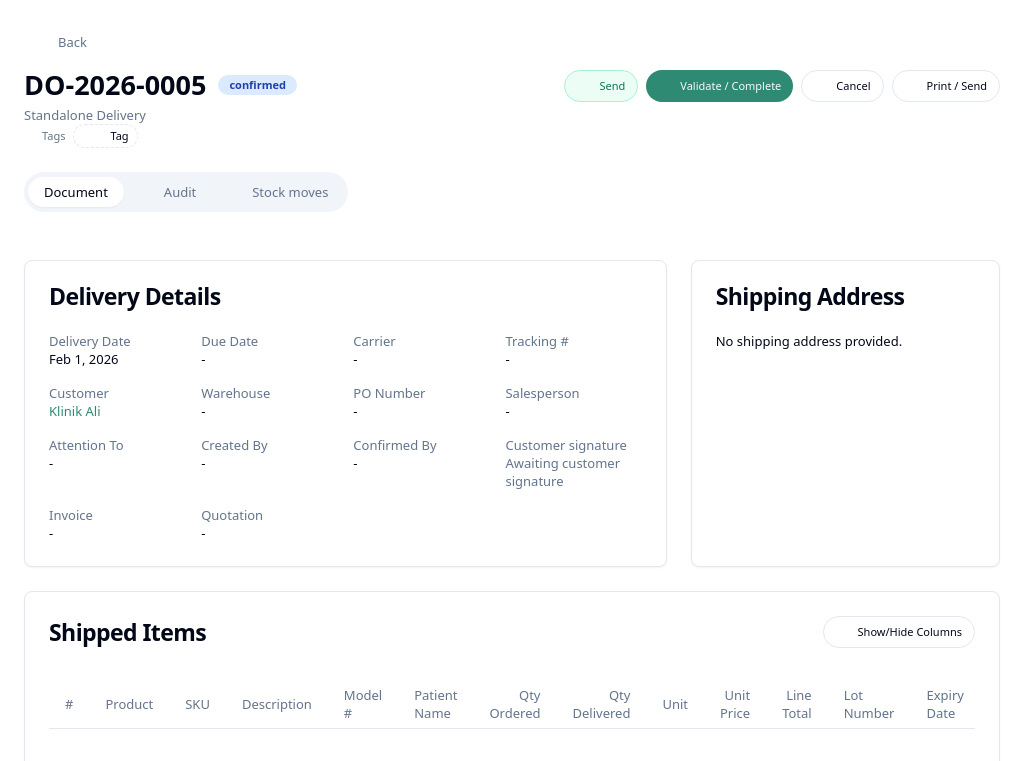
Test case: DeliveryOrderDetailPage — shared print and send menu (#618) › reuses the existing DO send dialog for the Email action
This screenshot has width=1024, height=761.
Press the mouse on the button "Print / Send" at (946, 86), box [892,70,1000,102]
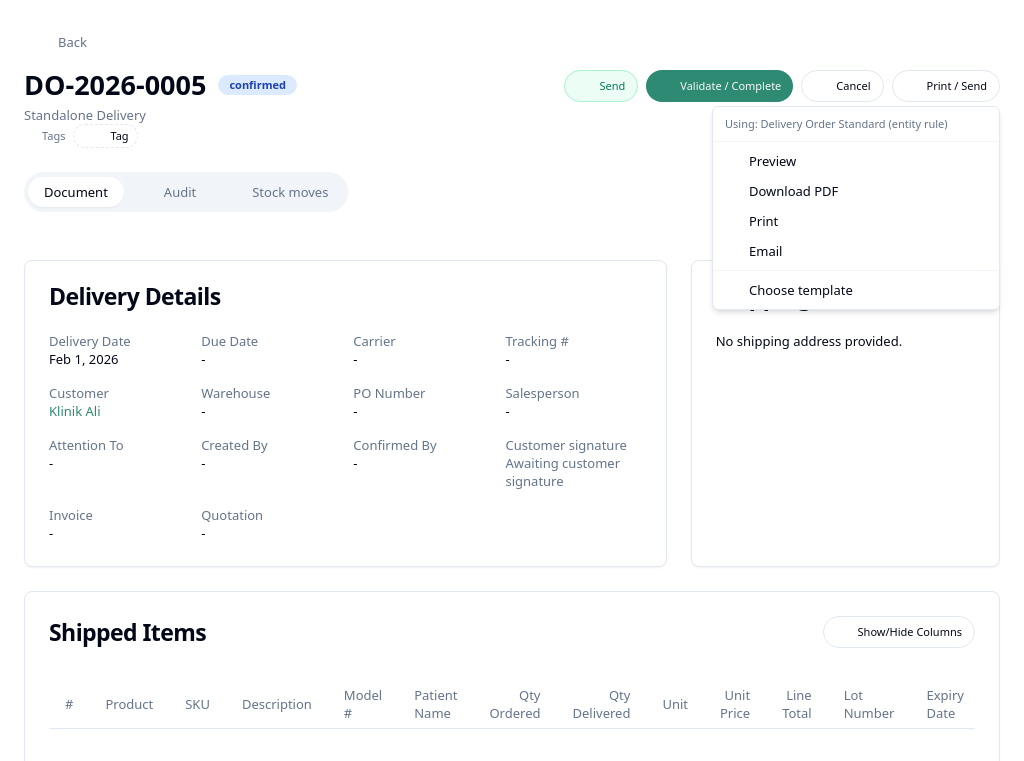
Expected: the menu item "Preview" is shown, [725,152,796,170]
Click the menu item "Email".
click(754, 251)  # box [725,242,782,260]
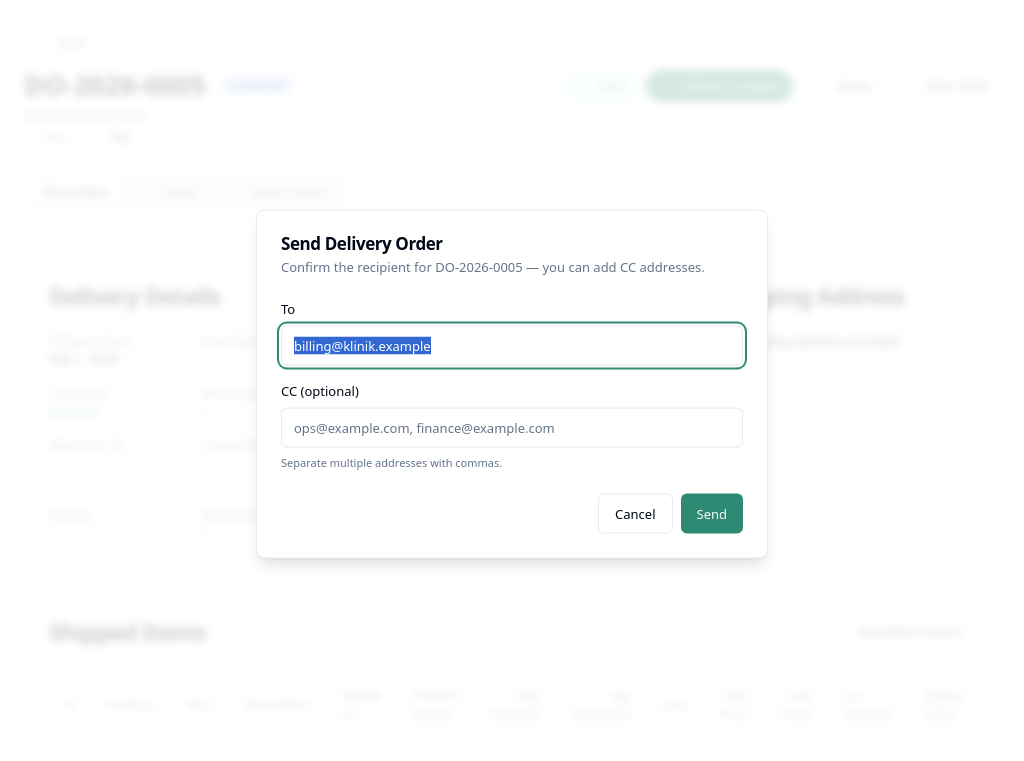
Expected: the heading "Send Delivery Order" is shown, [281,232,443,254]
